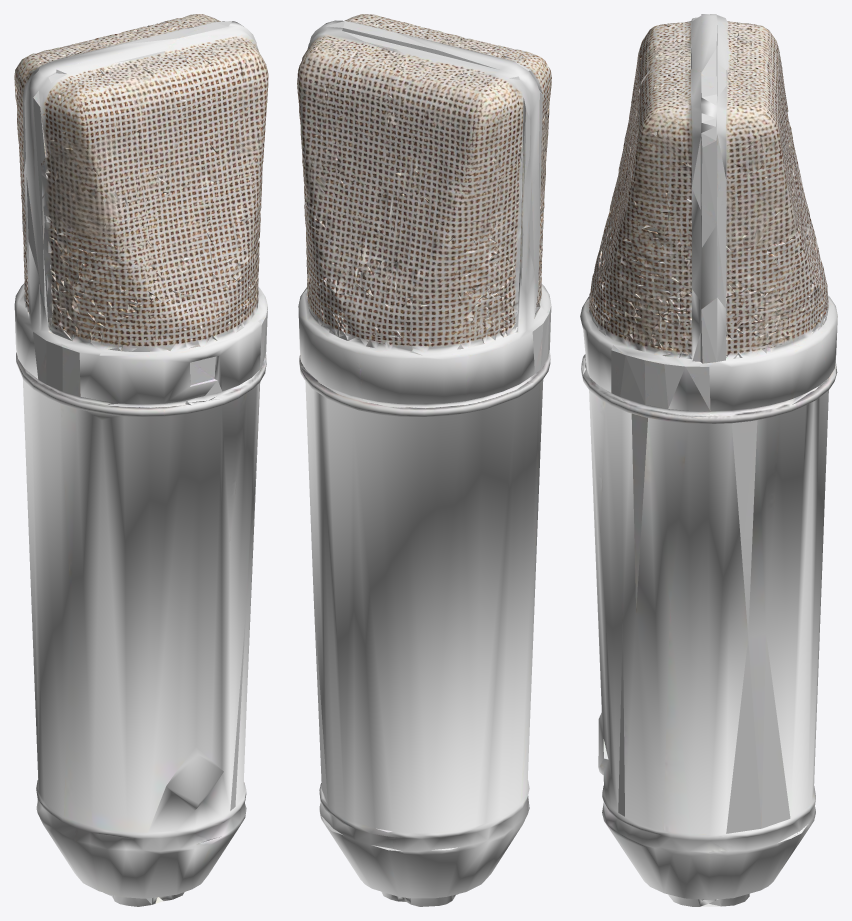
Rendered from neumann-u87-ai.glb.
The picture shows the model from 3 angles, left to right: view 1: azimuth 30°, elevation 25°; view 2: azimuth 150°, elevation 25°; view 3: azimuth 270°, elevation 25°; orthographic projection.
Visible parts, largest first — view 1: neumann-u87-ai-body; view 2: neumann-u87-ai-body; view 3: neumann-u87-ai-body.
Boxes of the visible parts, x1,y1,x2,y2 form: neumann-u87-ai-body: (14,14,268,906); neumann-u87-ai-body: (297,14,551,906); neumann-u87-ai-body: (580,14,837,906).
Size of the model in its own units: 0.056 by 0.2 by 0.056.
1 material, 1 textured.
